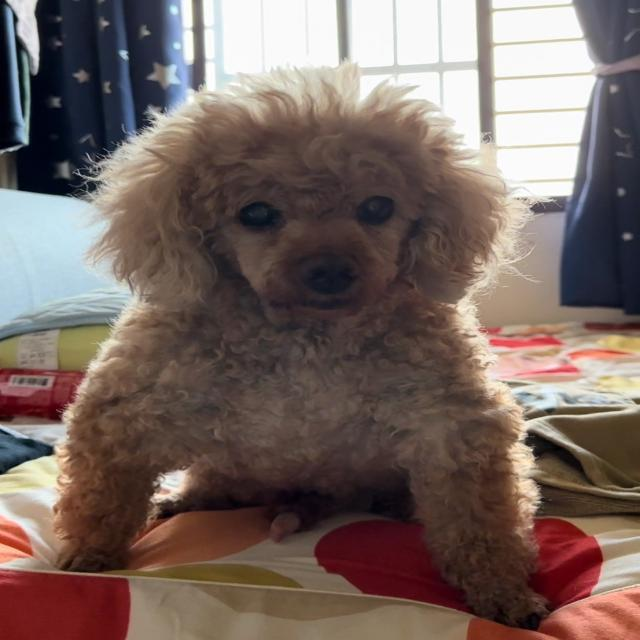adult_dog: (51, 67, 548, 630)
